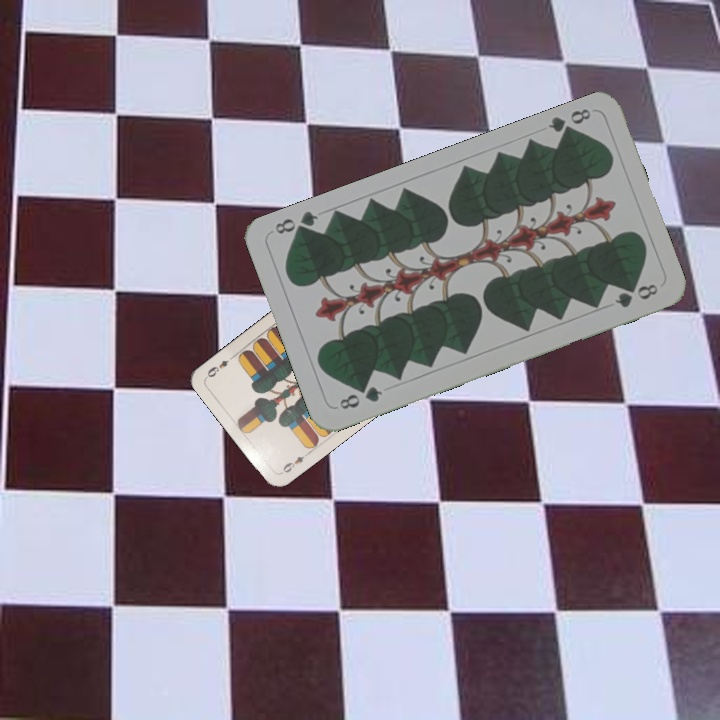E9: (277, 448, 312, 476)
G8: (544, 104, 594, 141), (335, 382, 386, 412)
